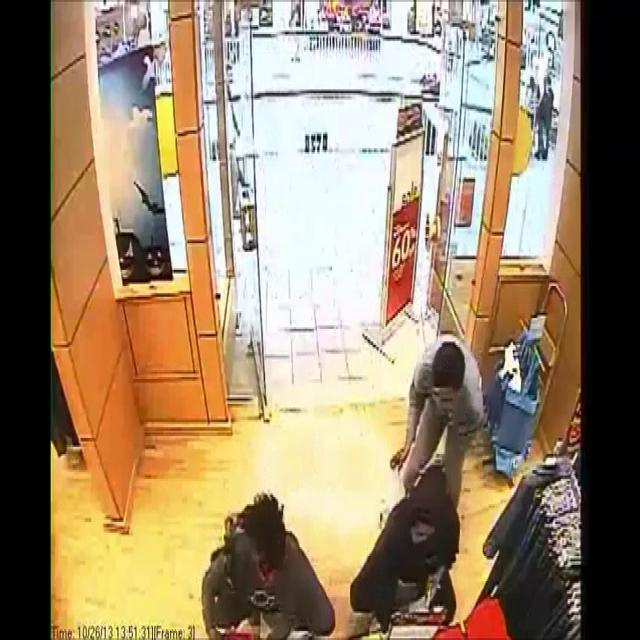normal: (404, 297, 499, 453)
shoplifting: (202, 438, 339, 640), (350, 433, 456, 640)
